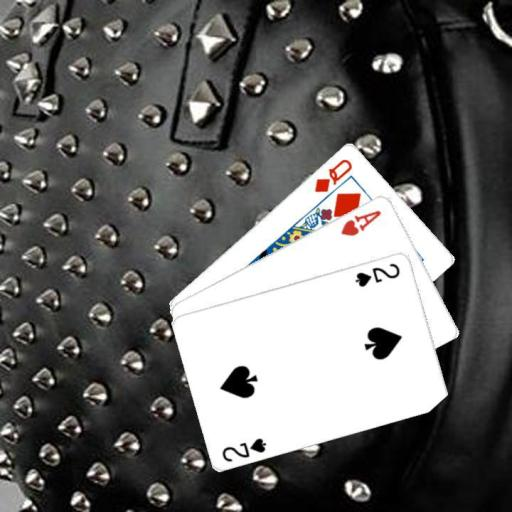2S: (219, 434, 268, 463), (352, 260, 402, 288)
AH: (337, 206, 383, 238)
QD: (311, 155, 354, 194)
